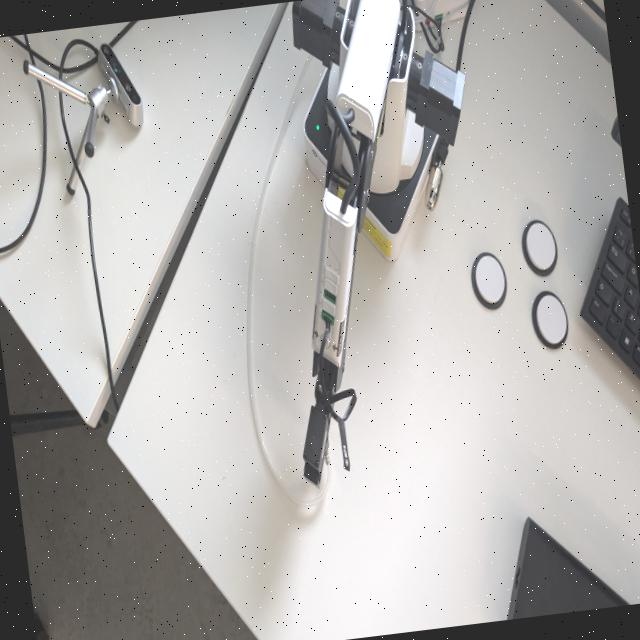Robot-end-effector-HF8z: (290, 393, 340, 495)
